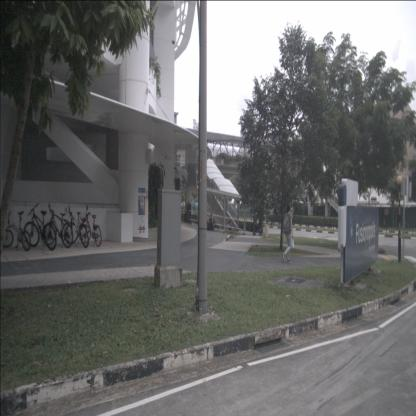human-pedestrian-adult: (282, 203, 294, 264), (258, 206, 263, 237), (252, 207, 257, 236), (209, 213, 216, 232), (207, 216, 214, 232), (227, 221, 232, 232)
